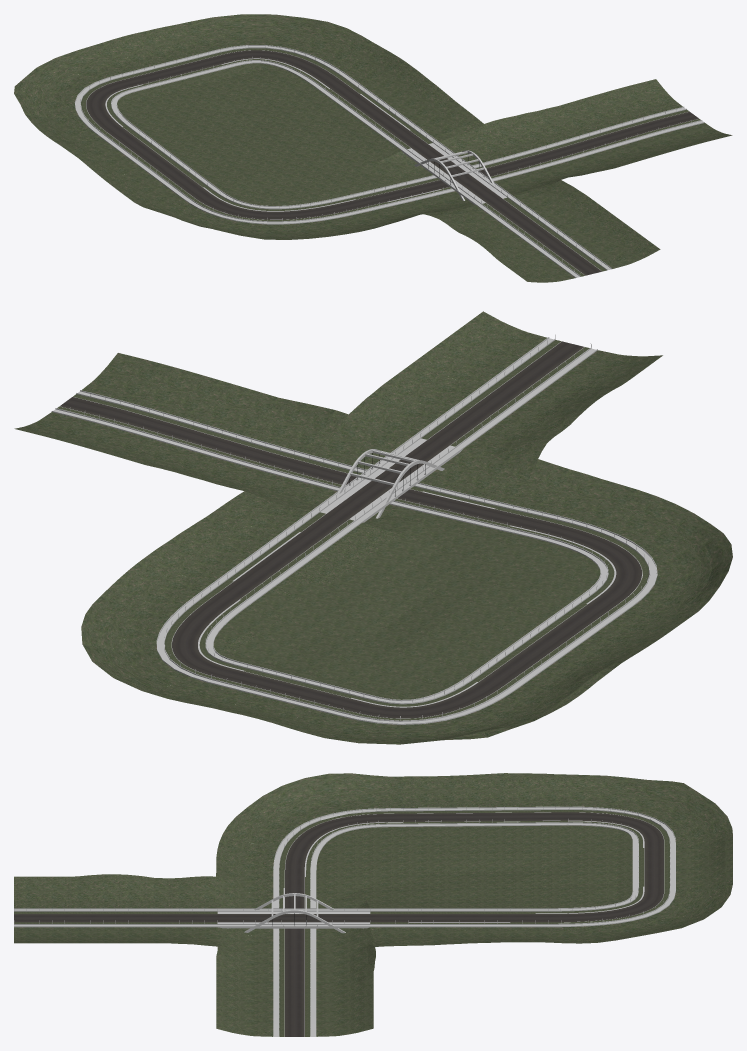
3 views of the same model, one above another, from view 1: azimuth 30°, elevation 25°; view 2: azimuth 150°, elevation 25°; view 3: azimuth 270°, elevation 25° (orthographic). The views are drawn at different scales.
Visible parts, largest first — view 1: Grass_Grass.001, Track_Track.004, Road_Road.001; view 2: Grass_Grass.001, Track_Track.004, Road_Road.001; view 3: Grass_Grass.001, Track_Track.004, Road_Road.001.
Part boxes in pixels (bbox=[...]): Grass_Grass.001: bbox=[14, 14, 732, 282]; Track_Track.004: bbox=[74, 44, 704, 277]; Road_Road.001: bbox=[86, 50, 698, 275]; Grass_Grass.001: bbox=[14, 311, 732, 744]; Track_Track.004: bbox=[51, 334, 657, 724]; Road_Road.001: bbox=[60, 341, 641, 718]; Grass_Grass.001: bbox=[14, 773, 732, 1036]; Track_Track.004: bbox=[14, 806, 675, 1036]; Road_Road.001: bbox=[14, 812, 663, 1036].
Bounding box in the file's own units: 540 × 23.49 × 640.
